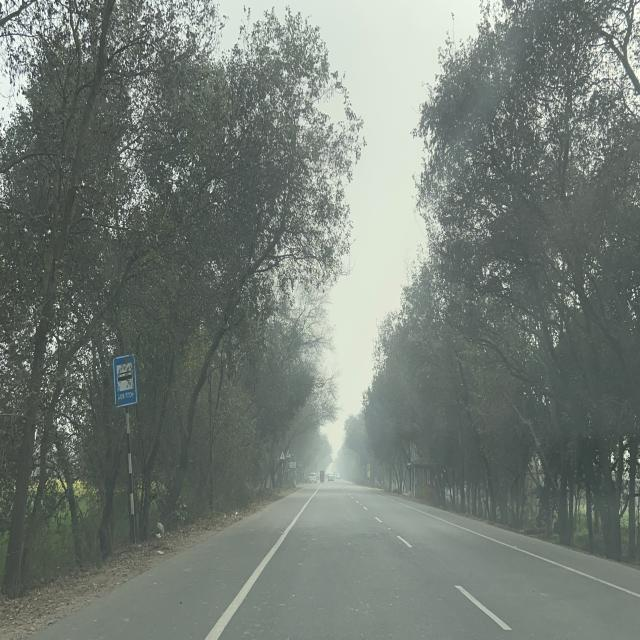INFORMATION: (112, 352, 138, 406)
